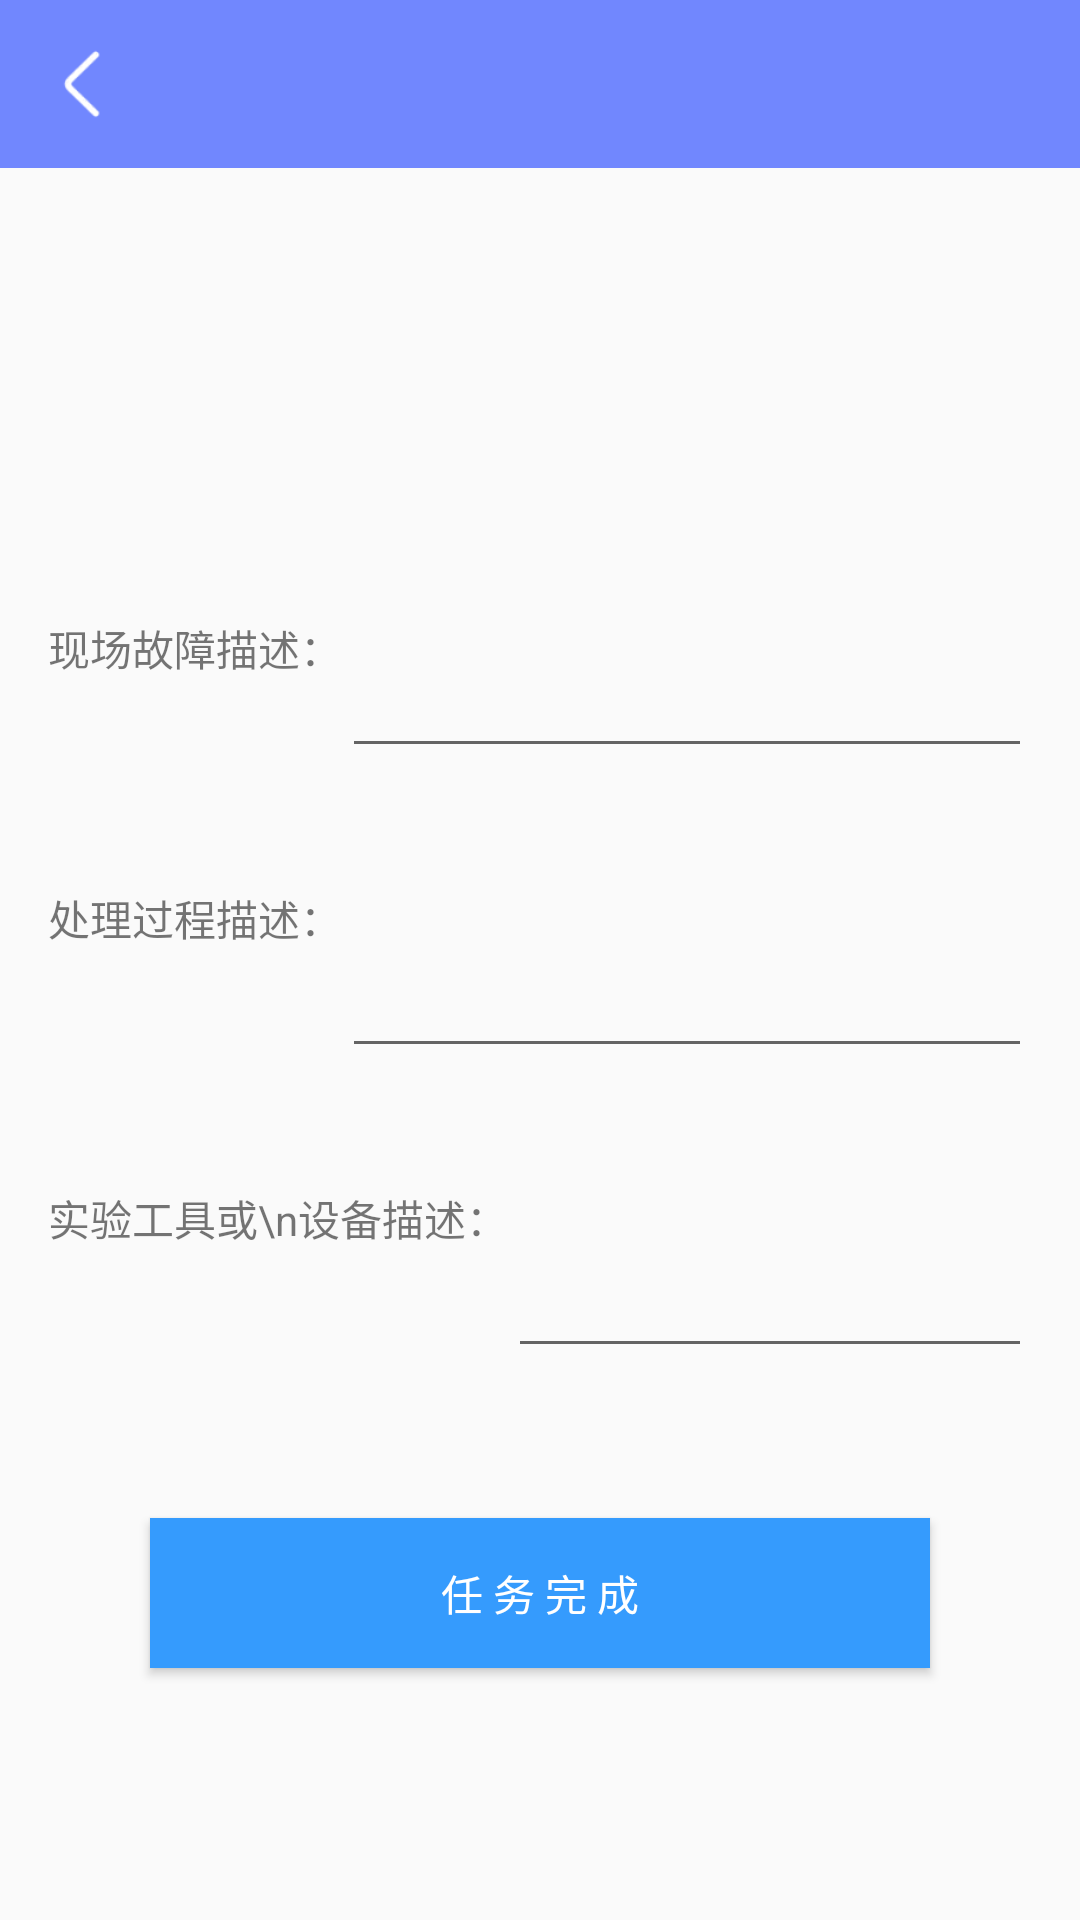

Named icons in this screenshot (1080 × 1920) and their centers, [x,y]:
back: [82,84]
